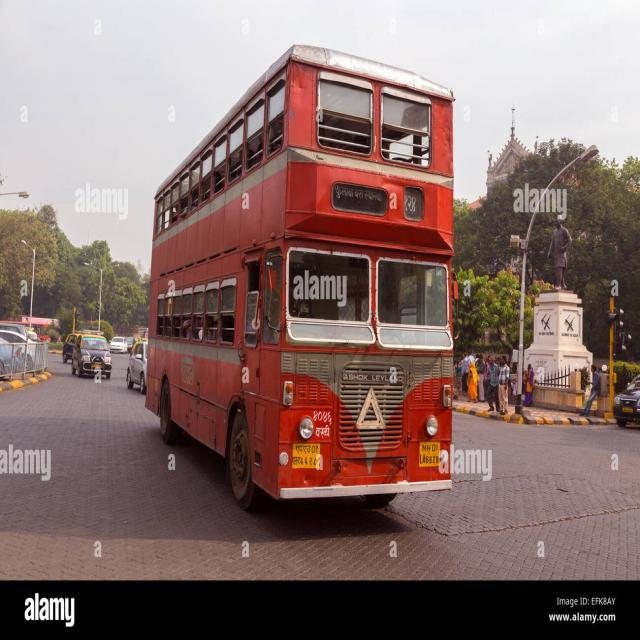bus: (152, 54, 458, 509)
